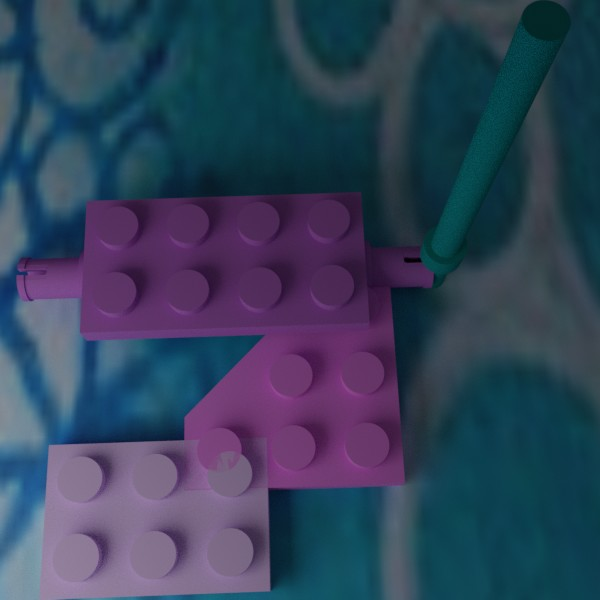lego: (16, 192, 433, 340), (183, 275, 405, 493), (418, 0, 570, 288), (39, 437, 271, 599)
